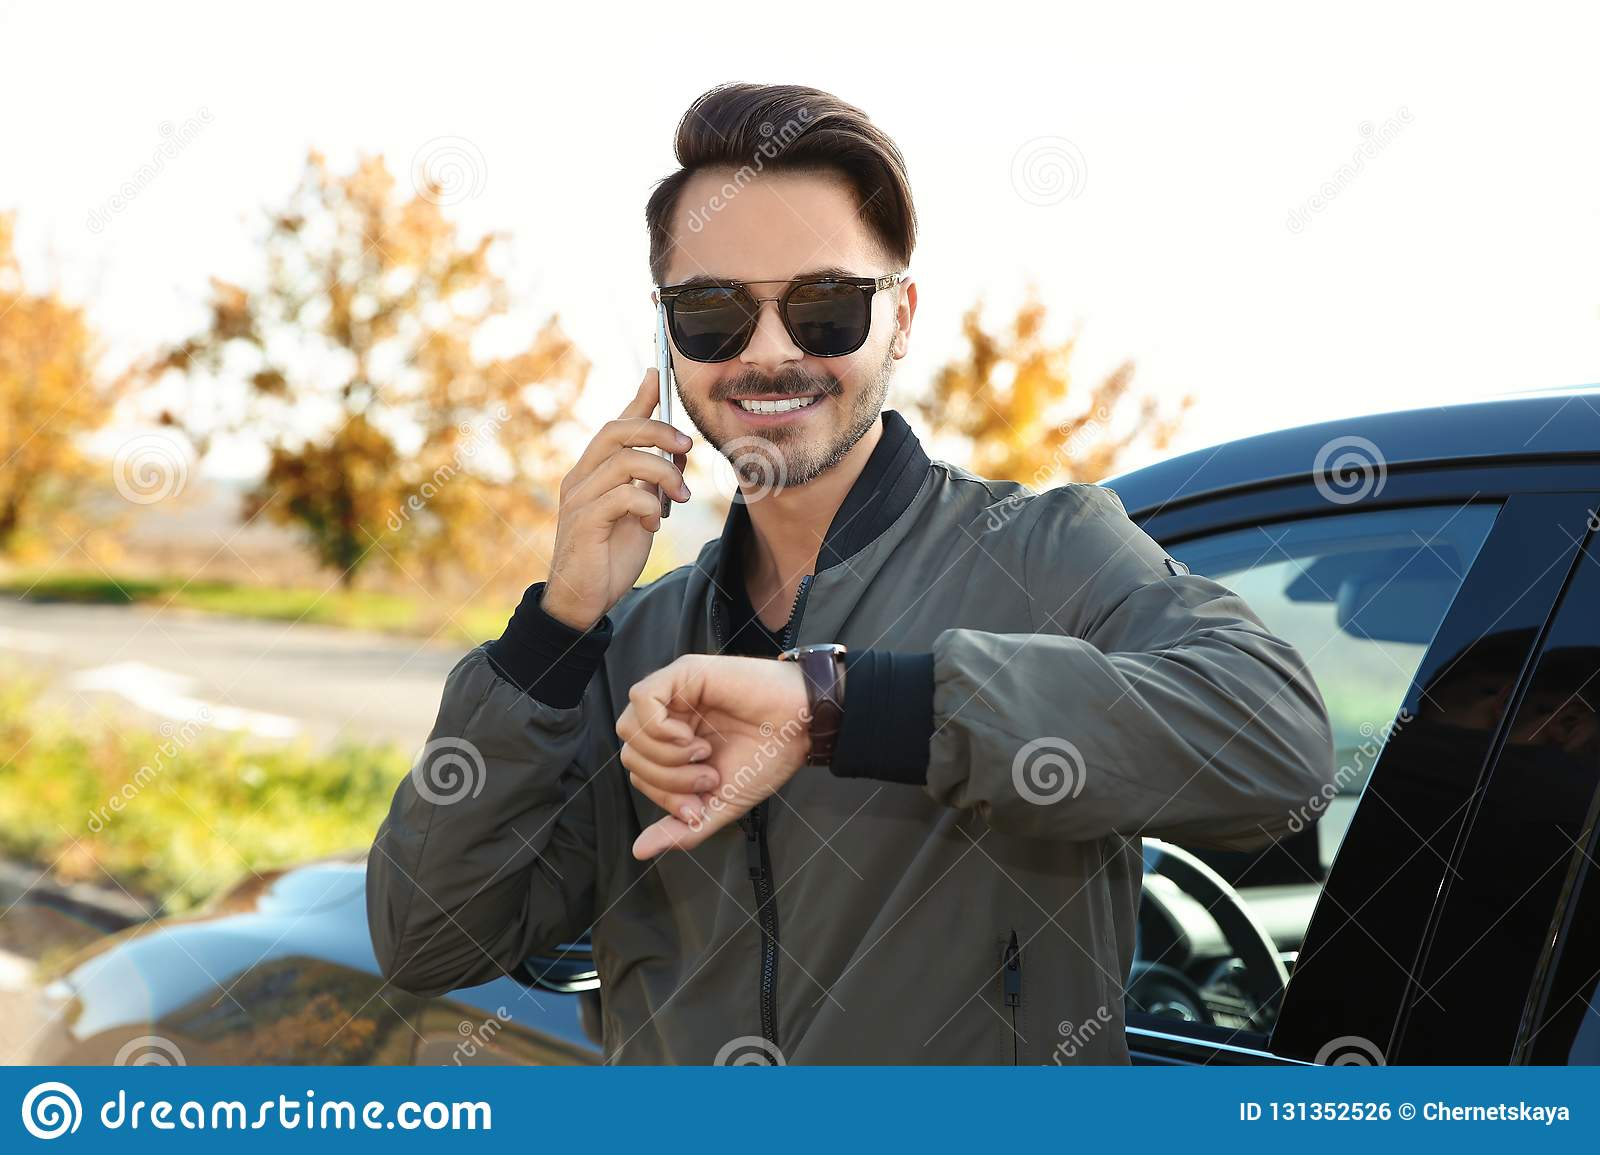phone: (647, 277, 682, 541)
talk: (547, 238, 887, 635)
